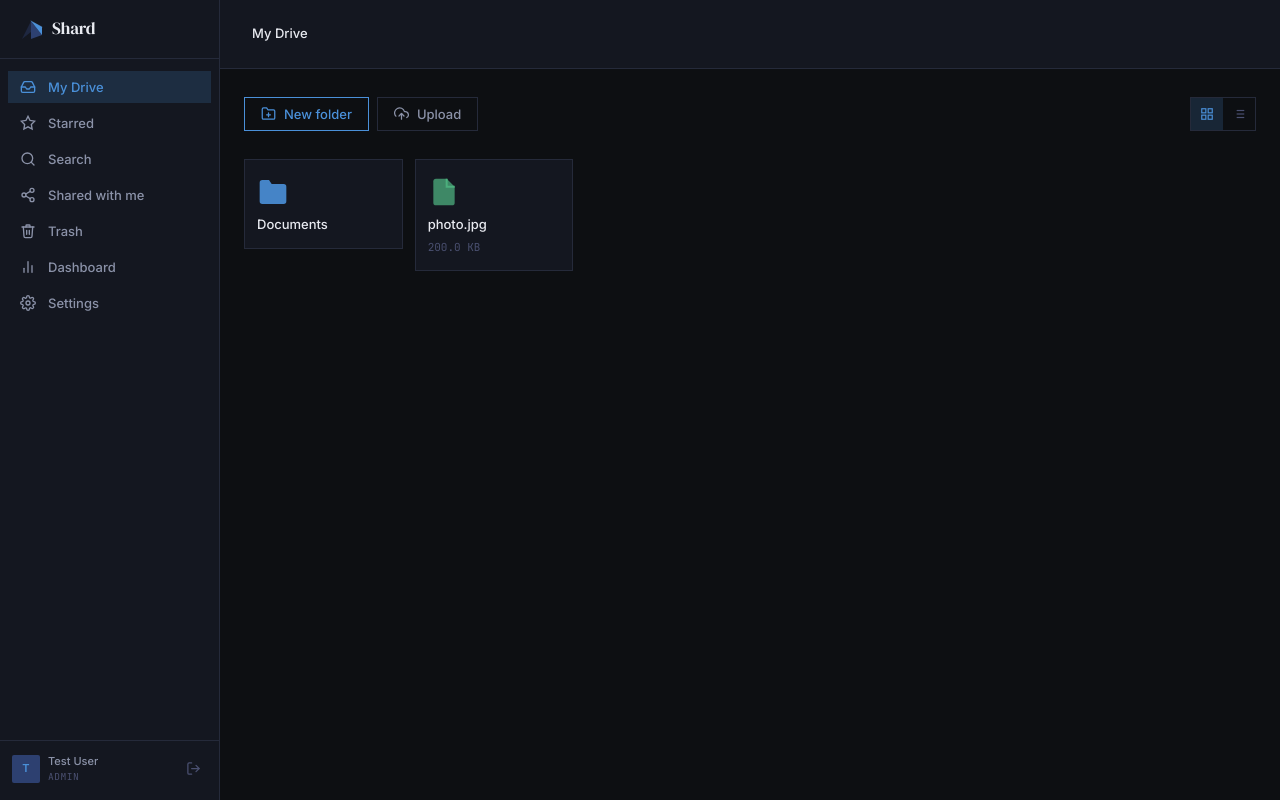
Scenario: Drive page › navigates into a folder on double-click
Double-click the button with test id "file-card-f1".
double_click(323, 204)  # box x1=244 y1=158 x2=403 y2=248
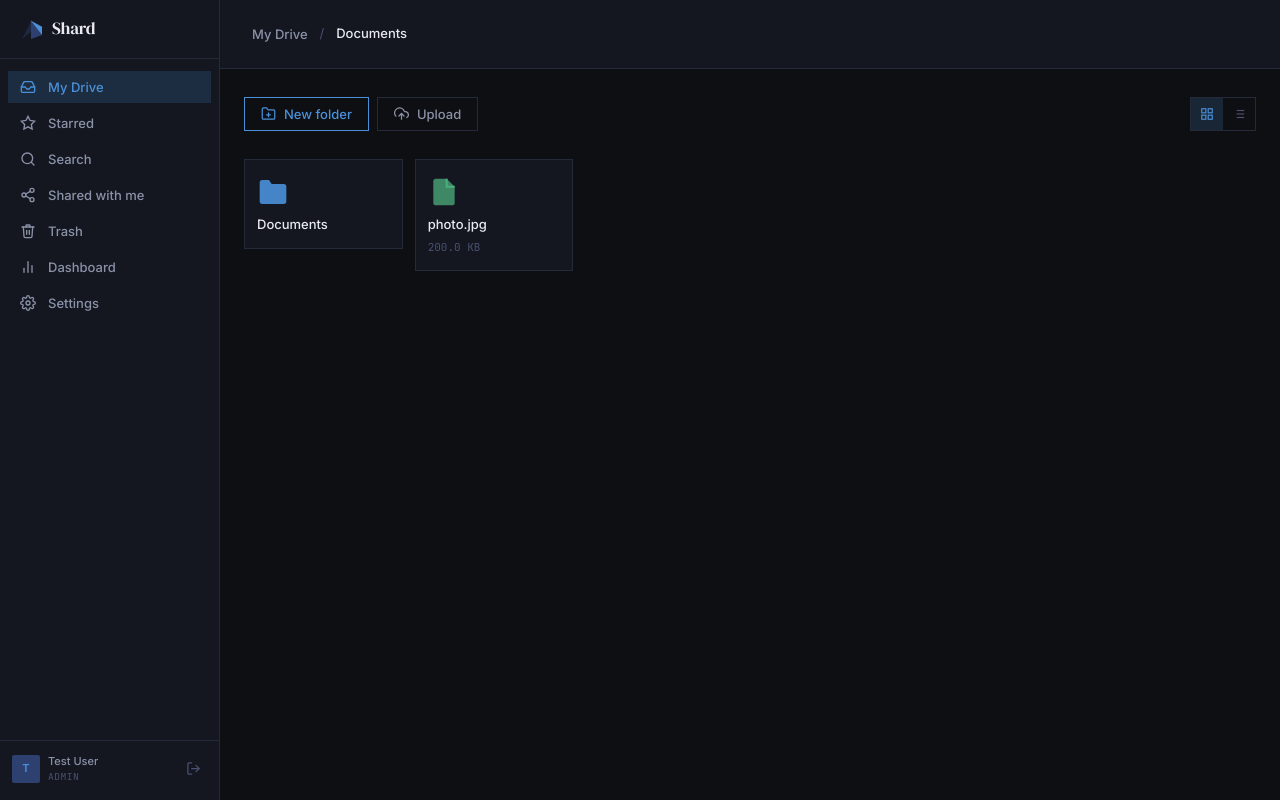
Check: the 1st text "Documents" is shown, box x1=336 y1=25 x2=407 y2=41
